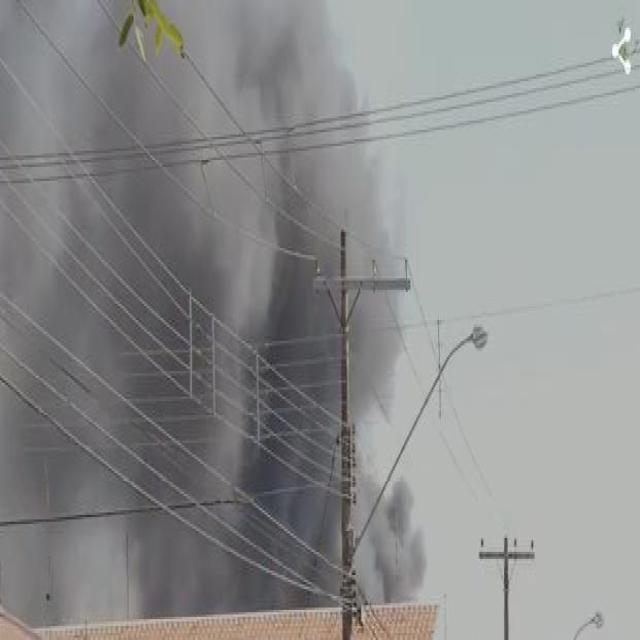Smoke: (12, 18, 424, 594)
